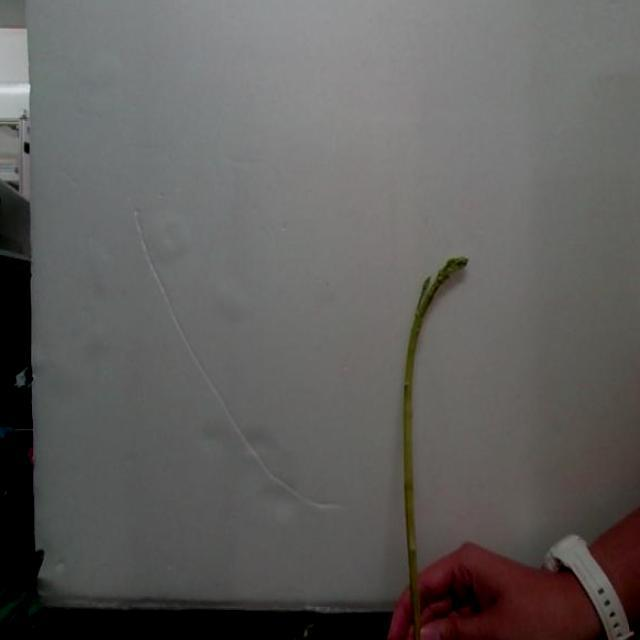aspargus: (401, 258, 468, 637)
